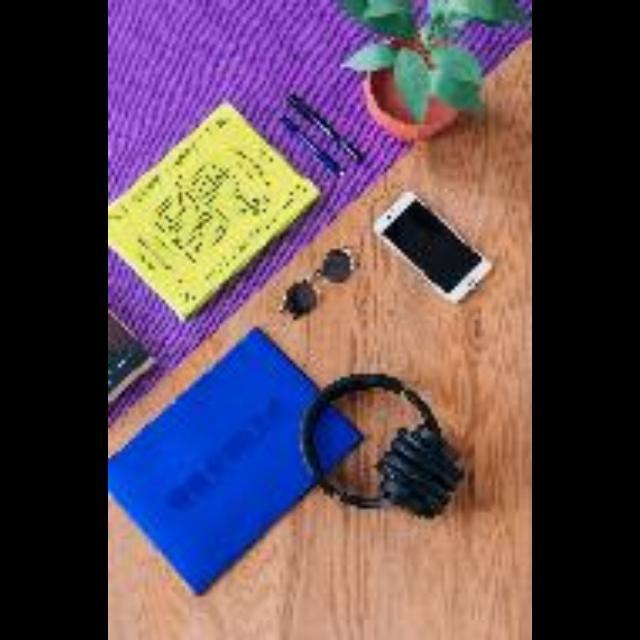phone: (382, 203, 486, 291)
